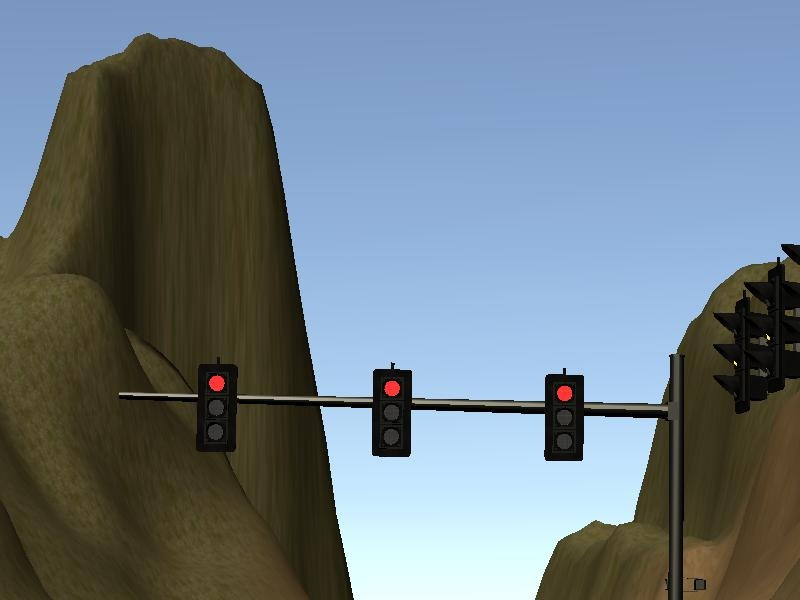RED: (542, 374, 584, 461), (369, 369, 411, 456), (196, 365, 238, 452)
